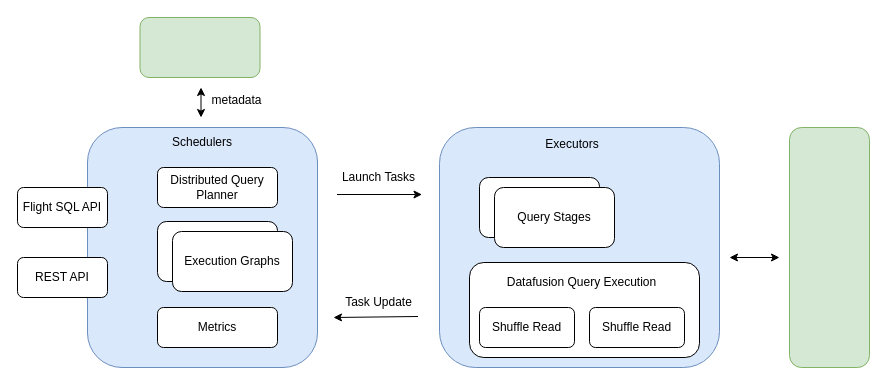
The diagram is 887 pixels wide and 385 high, and some of its shapes have lost their labels. The shapes that lost their labels are listed below. From the top down, each one's box as (x1, y1, x2, y2) in pixels, then its label:
(139, 16, 260, 78): Shared KV
(788, 126, 870, 368): FileSystem or ObjectStore
